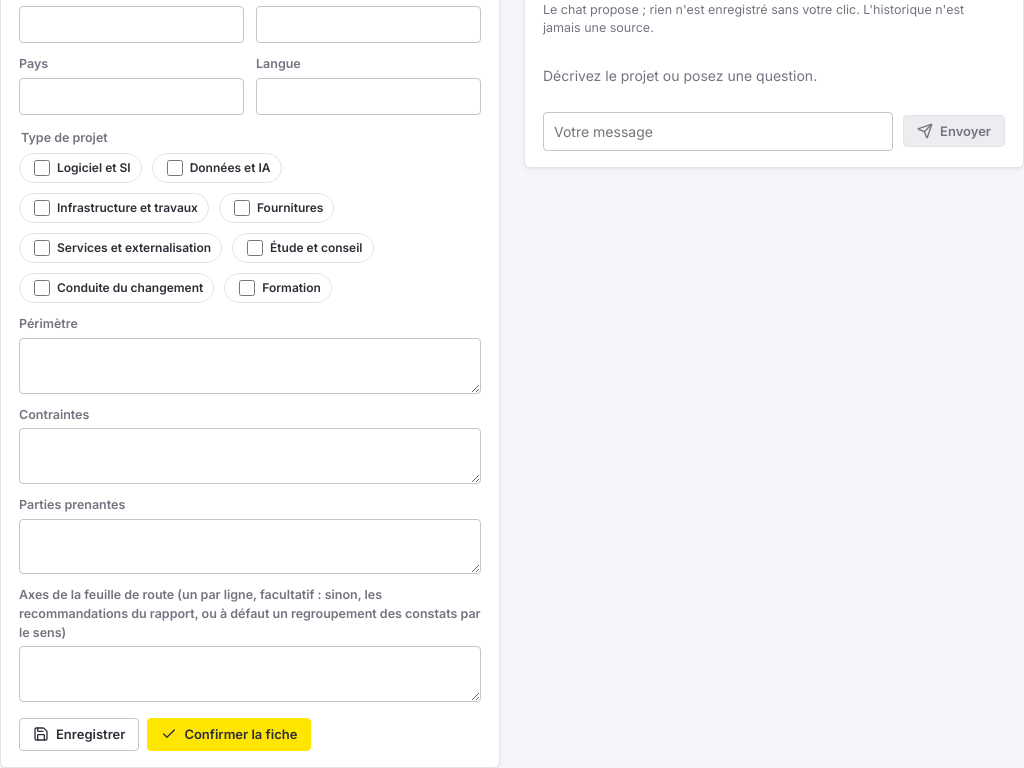
Test case: fiche de contexte et chat › confirme la fiche
This screenshot has width=1024, height=768.
(page scrolled)
Click the button "Confirmer la fiche": click(229, 734) x1=147 y1=718 x2=311 y2=751
(page scrolled)
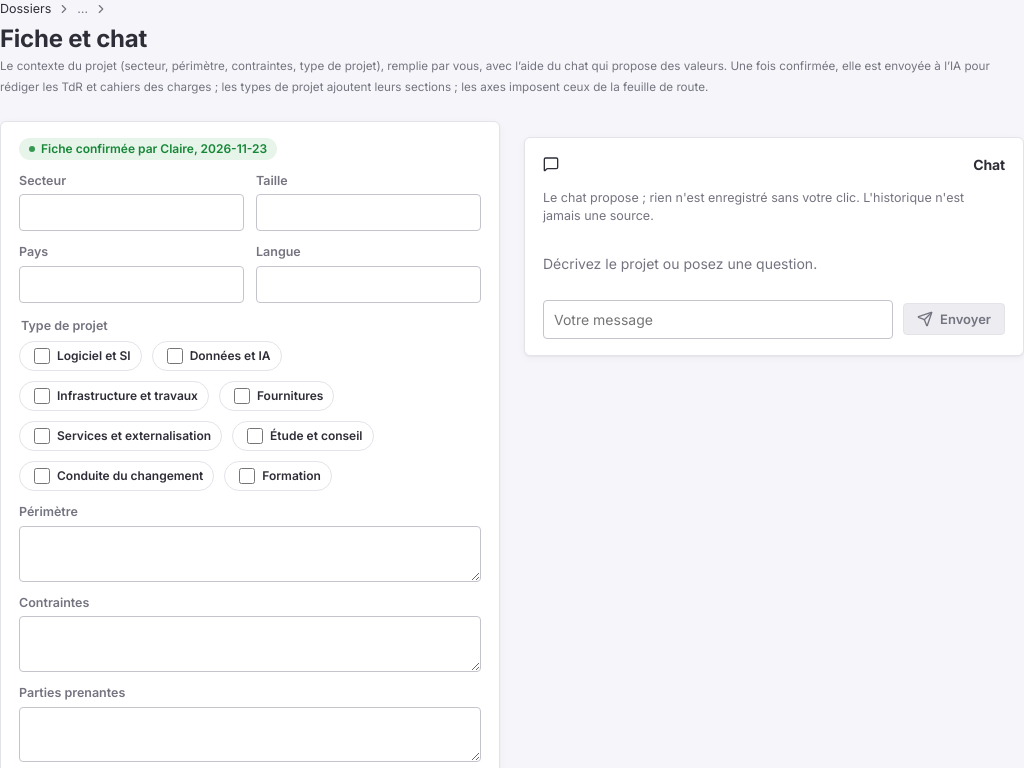
Expected: the text "Fiche confirmée par Claire, 2026-11-23" is shown, x1=19 y1=138 x2=277 y2=160
